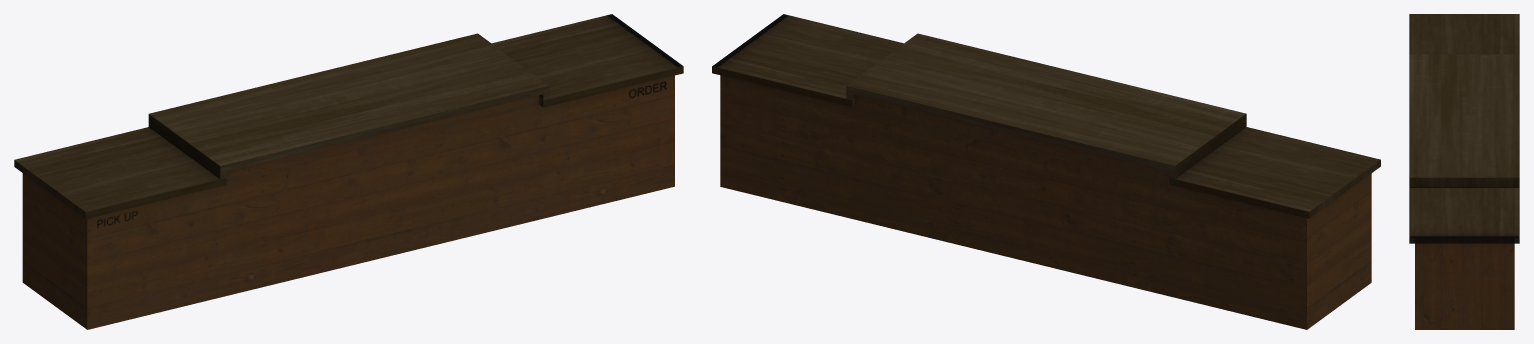
The model's file is LC_3013_Cafecounter_LOD1.FBX.
3 views of the same model, side by side, from view 1: azimuth 30°, elevation 25°; view 2: azimuth 150°, elevation 25°; view 3: azimuth 270°, elevation 25° (orthographic). The views are drawn at different scales.
Parts seen in each view (by area): view 1: LC_3013_Cafecounter_LOD1; view 2: LC_3013_Cafecounter_LOD1; view 3: LC_3013_Cafecounter_LOD1.
Boxes of the visible parts, x1=… form: LC_3013_Cafecounter_LOD1: x1=14, y1=14, x2=683, y2=329; LC_3013_Cafecounter_LOD1: x1=712, y1=14, x2=1380, y2=329; LC_3013_Cafecounter_LOD1: x1=1409, y1=14, x2=1519, y2=329.
Size of the model in its own units: 458 by 98.79 by 95.
Materials: 1 (1 with a texture image).
